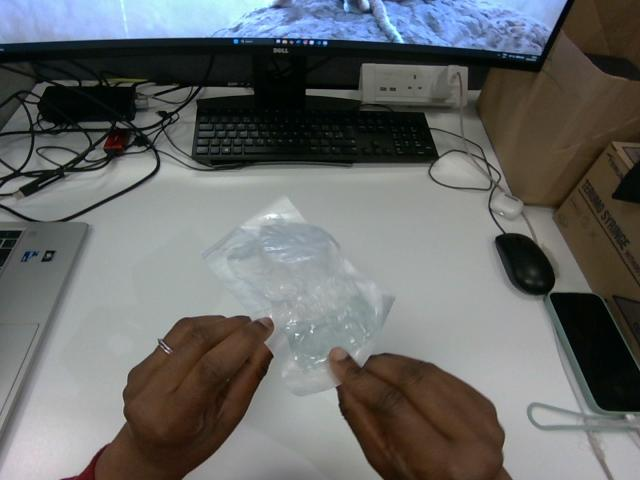gallipot: (203, 198, 393, 395)
